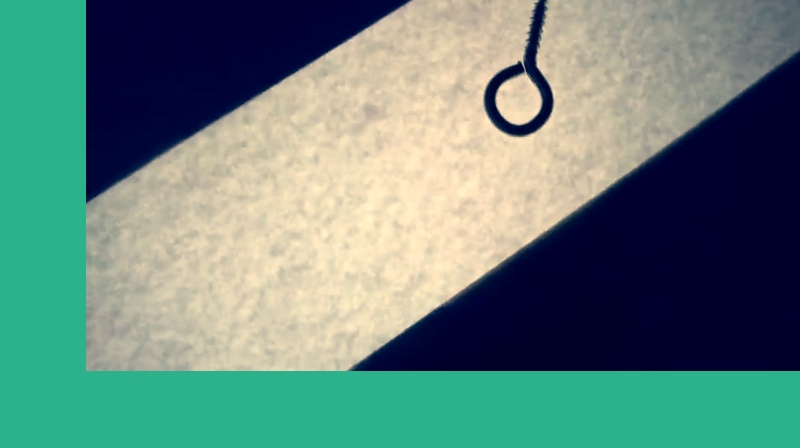O001: (477, 0, 555, 140)
